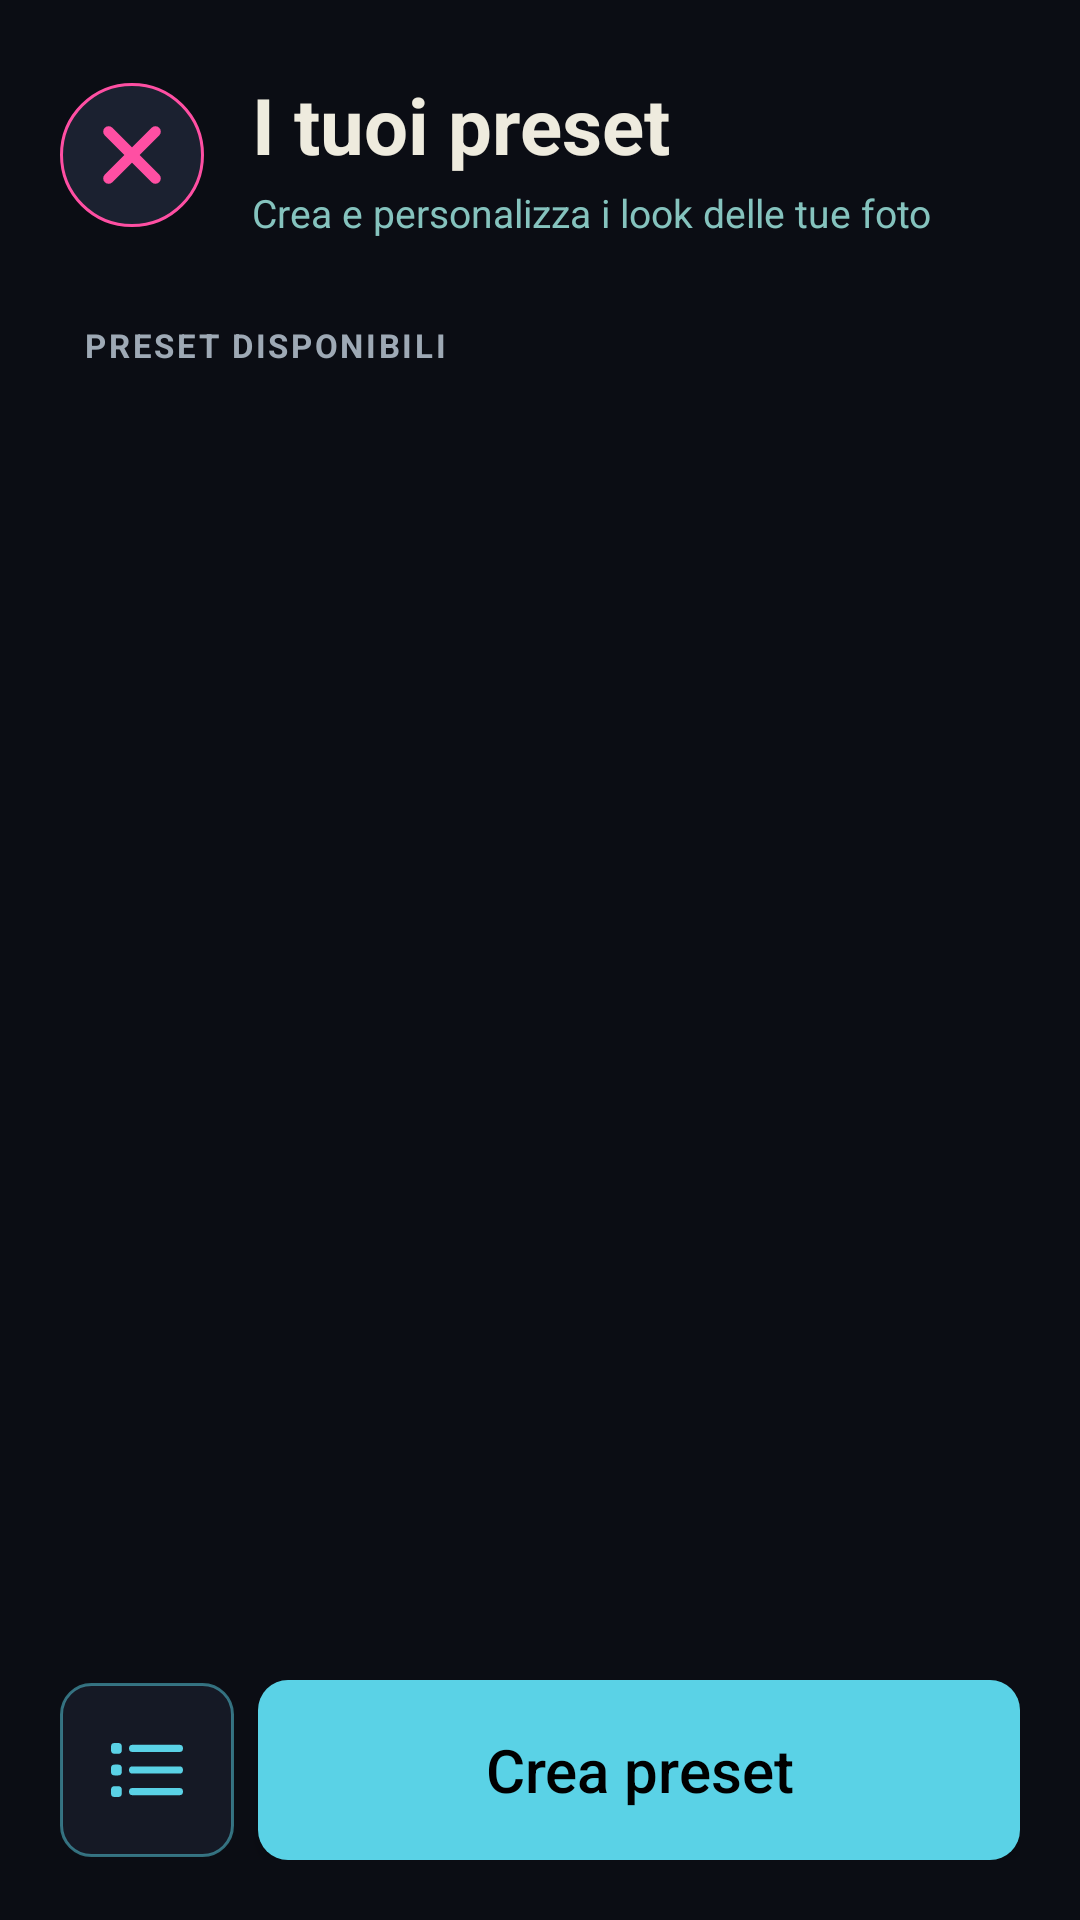

Icon bounding boxes for this 1080*1920 phone screenshot, format {"x1": x1, "y1": y1, "x2": x2, "y2": y2}:
Modifica l’ordine dei preset: {"x1": 60, "y1": 1683, "x2": 234, "y2": 1857}
Torna alla galleria: {"x1": 60, "y1": 83, "x2": 204, "y2": 227}
